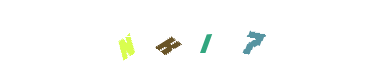7: (194, 0, 274, 80)
I: (150, 0, 230, 80)
K: (128, 0, 208, 80)
N: (87, 0, 167, 80)
